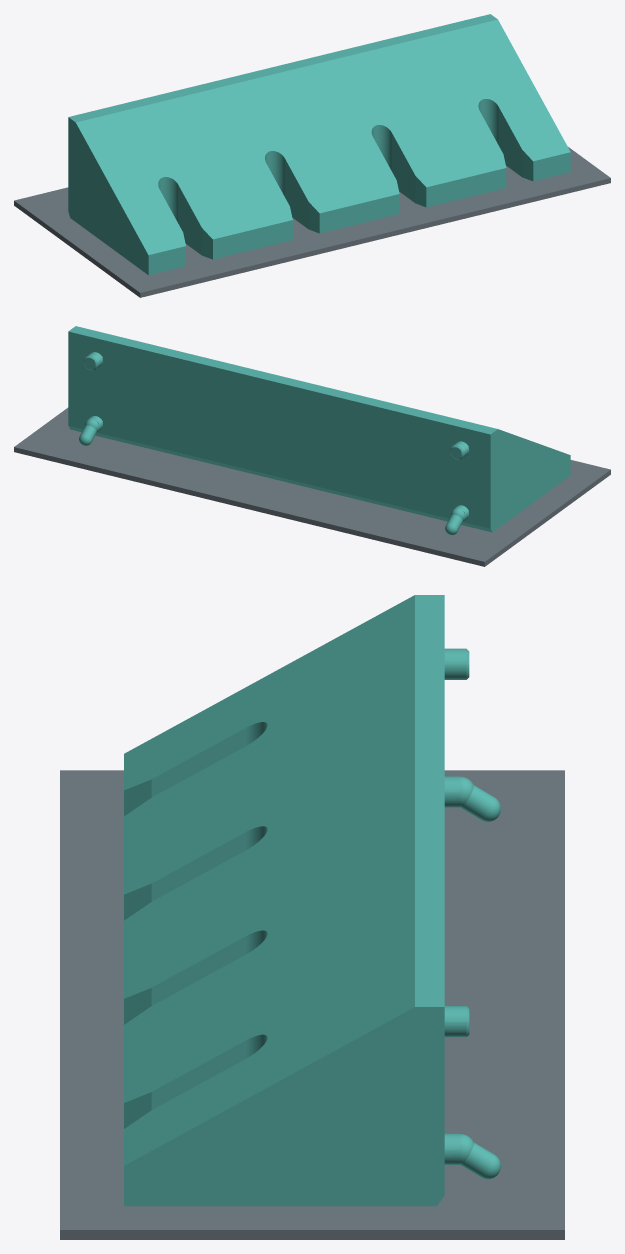
File: part-sd03-inverted-d__v1__print-flat-top.glb
3 views of the same model, one above another, from view 1: azimuth 30°, elevation 25°; view 2: azimuth 150°, elevation 25°; view 3: azimuth 270°, elevation 25° (orthographic). The views are drawn at different scales.
Parts seen in each view (by area): view 1: Actual holder mesh, Print bed; view 2: Actual holder mesh, Print bed; view 3: Actual holder mesh, Print bed.
Part boxes in pixels (box(x1,y1,x2,y2)): Actual holder mesh: box(68, 14, 570, 275); Print bed: box(14, 147, 610, 297); Actual holder mesh: box(68, 326, 570, 535); Print bed: box(14, 407, 610, 566); Actual holder mesh: box(124, 595, 500, 1206); Print bed: box(60, 770, 564, 1239).
Size of the model in its own units: 0.196 by 0.0416 by 0.091.
